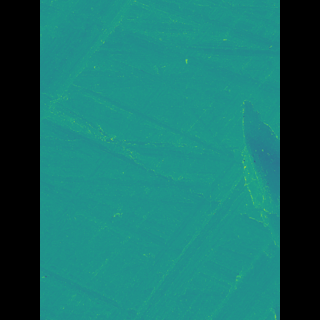Loch: (121, 126, 222, 320), (71, 0, 140, 121), (219, 98, 250, 257)
